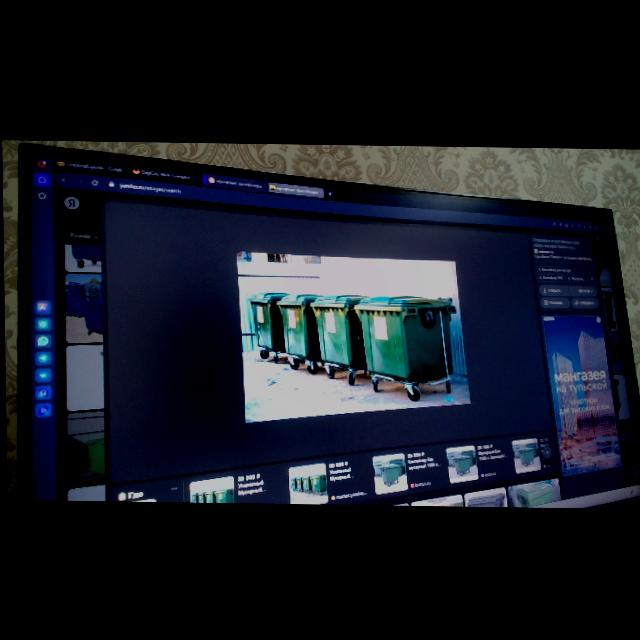Trash_Can_Closed: (353, 294, 457, 381), (309, 293, 371, 369), (275, 291, 323, 360), (246, 291, 291, 350)
